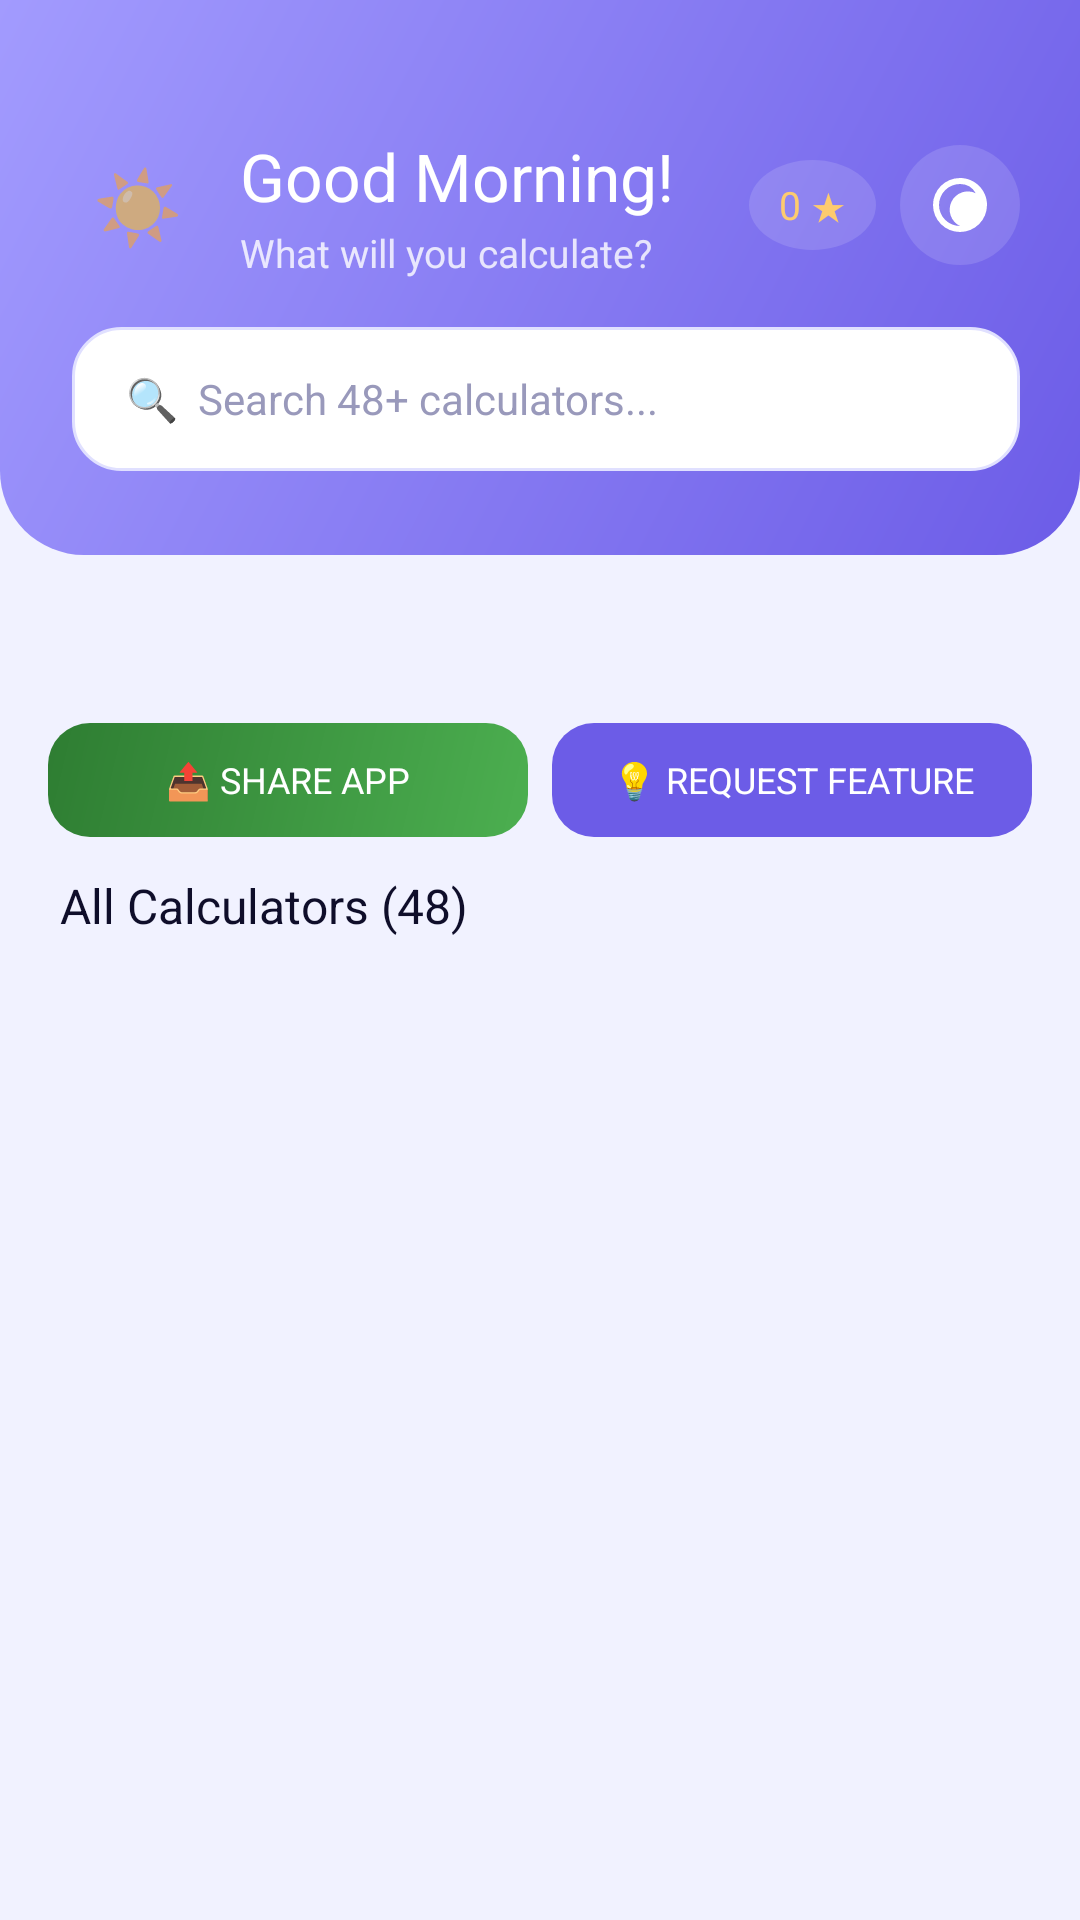

Icon bounding boxes for this 1080w x 1920h phone screenshot, format (x1, y1, x2, y2):
Dark mode: (933, 178, 987, 232)
